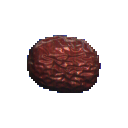gd: (17, 24, 120, 118)
